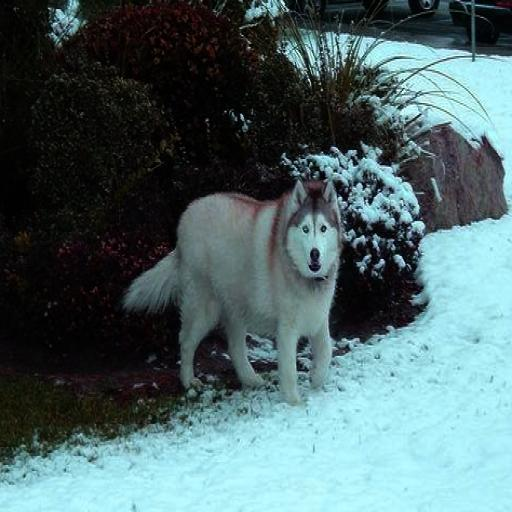dog_face: (292, 181, 339, 276)
